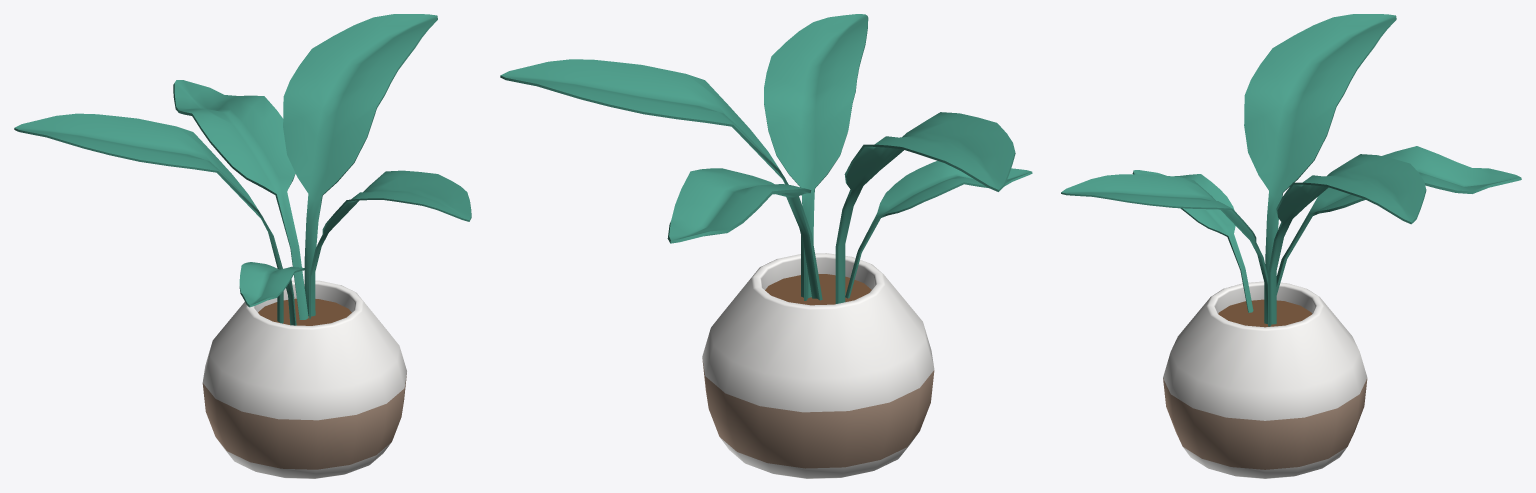
File: Plant_1.glb
3 renders of one model, left to right at view 1: azimuth 30°, elevation 25°; view 2: azimuth 150°, elevation 25°; view 3: azimuth 270°, elevation 25°, orthographic. The views are drawn at different scales.
Parts seen in each view (by area): view 1: Plant_1; view 2: Plant_1; view 3: Plant_1.
Boxes of the visible parts, left/top/right/bottom form: Plant_1: left=14, top=14, right=471, bottom=478; Plant_1: left=500, top=14, right=1032, bottom=478; Plant_1: left=1061, top=14, right=1521, bottom=478.
Size of the model in its own units: 1.61 by 1.19 by 1.51.
Materials: 1 (1 with a texture image).
